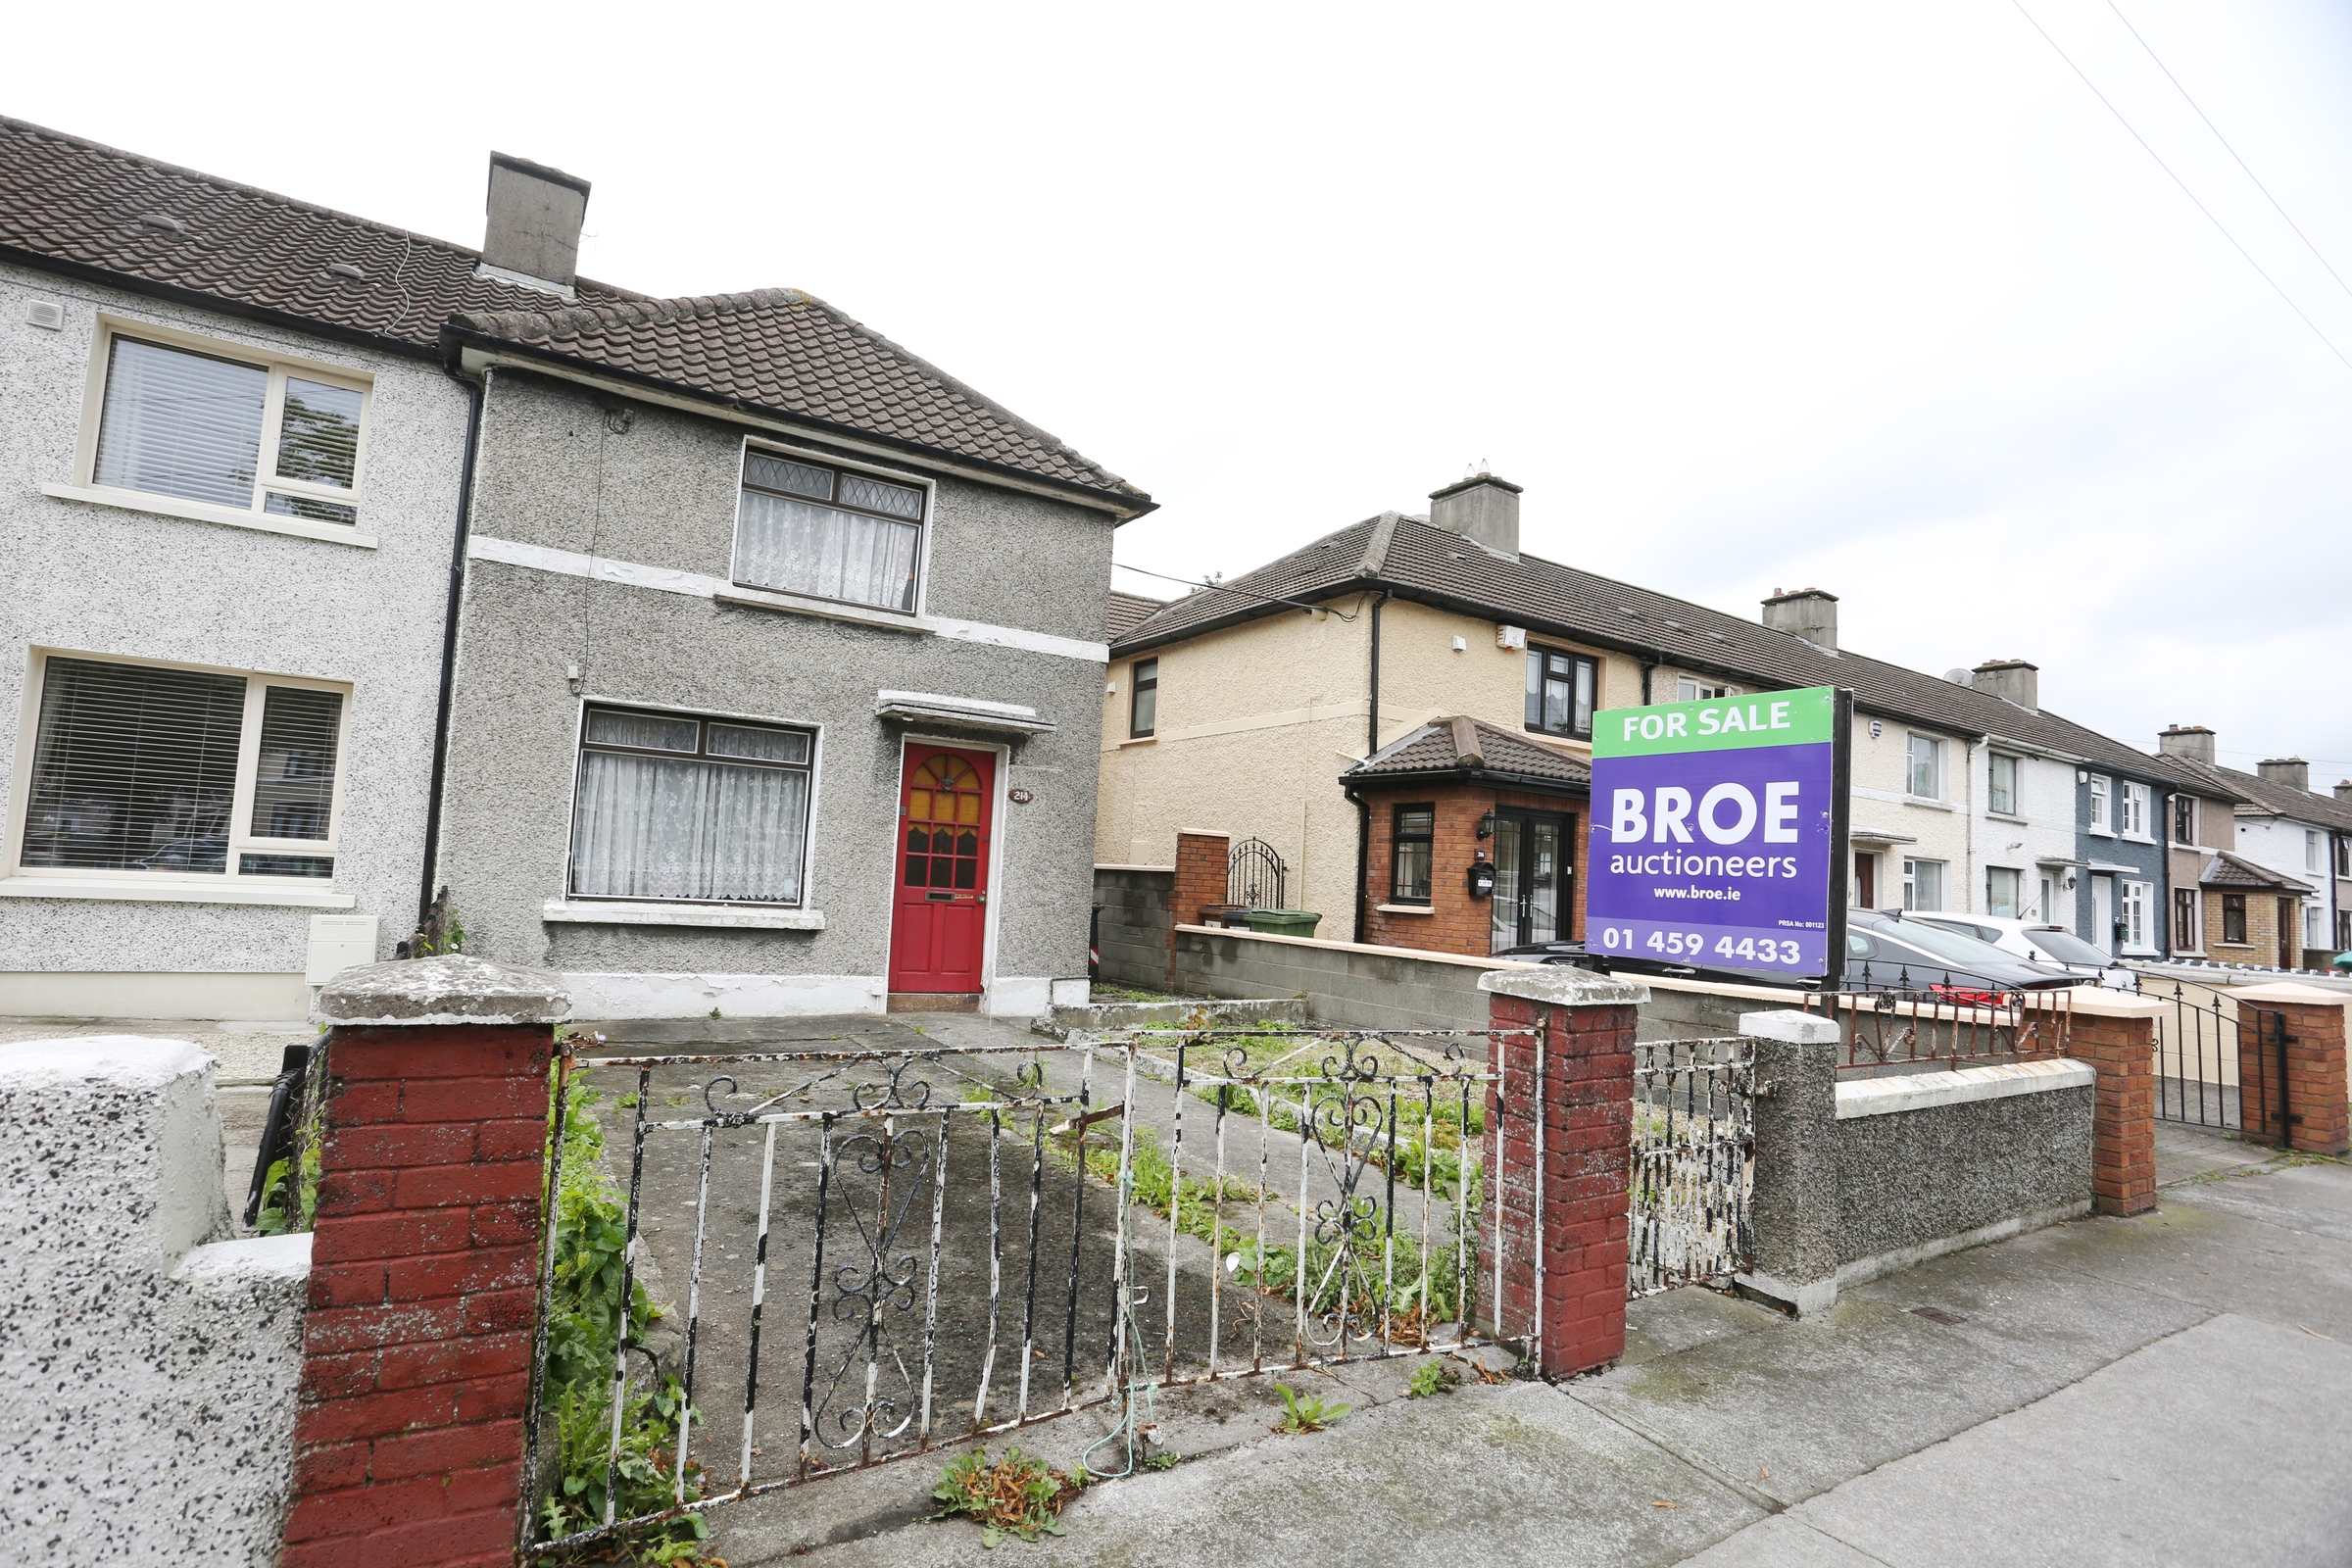property sign: (1564, 675, 1881, 1013)
